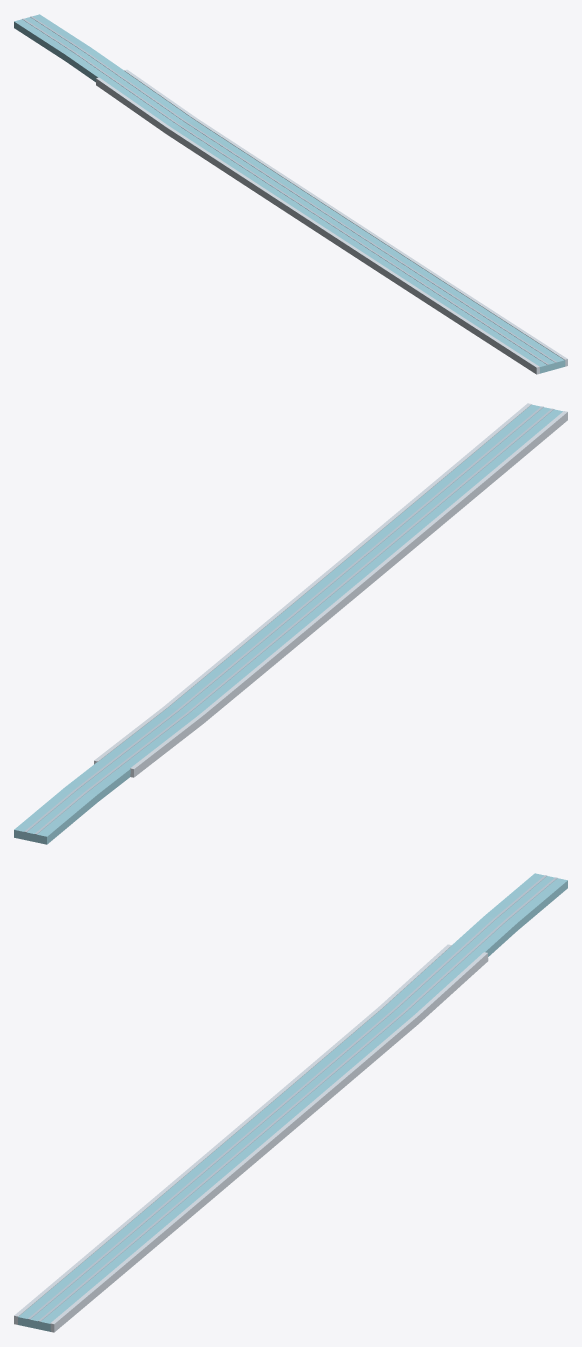
Rendered from Road_3_0_0.fbx.
3 renders of one model, top to bottom at view 1: azimuth 30°, elevation 25°; view 2: azimuth 150°, elevation 25°; view 3: azimuth 330°, elevation 25°, orthographic. The views are drawn at different scales.
Visible parts, largest first — view 1: Road_3_0_0; view 2: Road_3_0_0; view 3: Road_3_0_0.
Part boxes in pixels (left/top/right/bottom): Road_3_0_0: left=14, top=14, right=567, bottom=374; Road_3_0_0: left=14, top=403, right=567, bottom=844; Road_3_0_0: left=14, top=873, right=567, bottom=1332.
Size of the model in its own units: 2310 by 416 by 24851.
